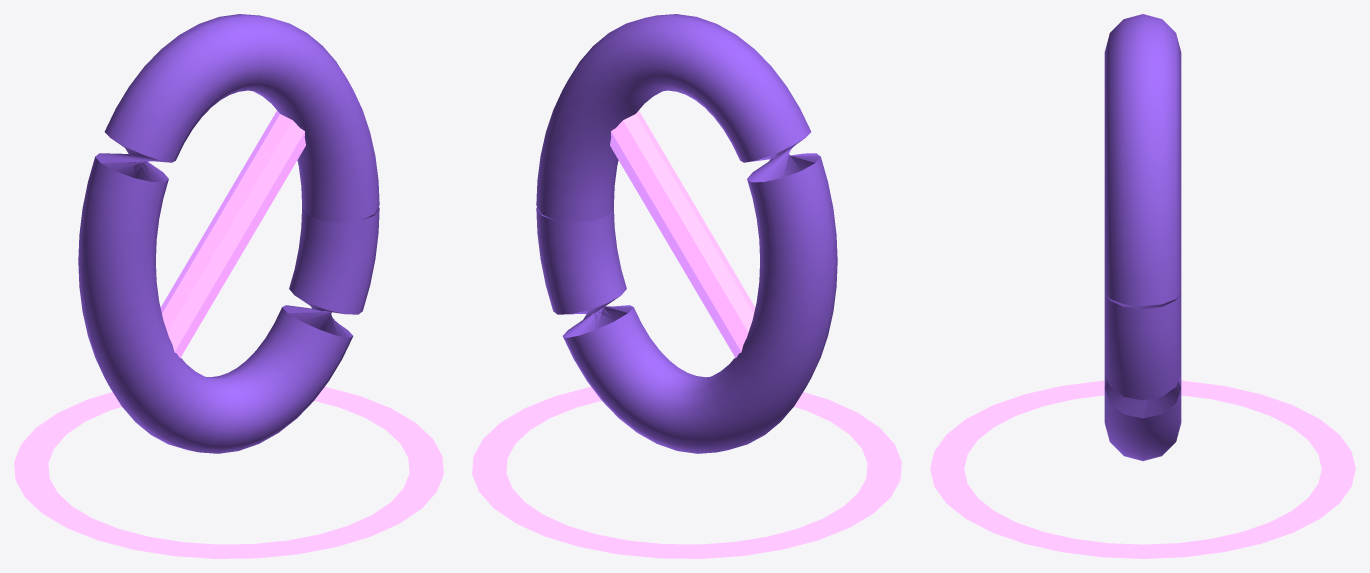
3 renders of one model, left to right at view 1: azimuth 30°, elevation 25°; view 2: azimuth 150°, elevation 25°; view 3: azimuth 270°, elevation 25°, orthographic.
Visible parts, largest first — view 1: emblem_cero.lod0; view 2: emblem_cero.lod0; view 3: emblem_cero.lod0.
Part boxes in pixels (x1,y1,x2,y2): emblem_cero.lod0: (14, 14, 443, 558); emblem_cero.lod0: (472, 14, 901, 558); emblem_cero.lod0: (930, 14, 1355, 558).
Bounding box in the file's own units: 1 × 1.15 × 1.
